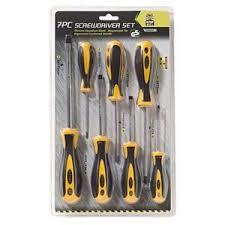screwdriver: (59, 31, 81, 204), (132, 39, 154, 185), (89, 72, 112, 204), (105, 38, 127, 163), (119, 93, 141, 204), (76, 40, 94, 139), (151, 101, 167, 204)
